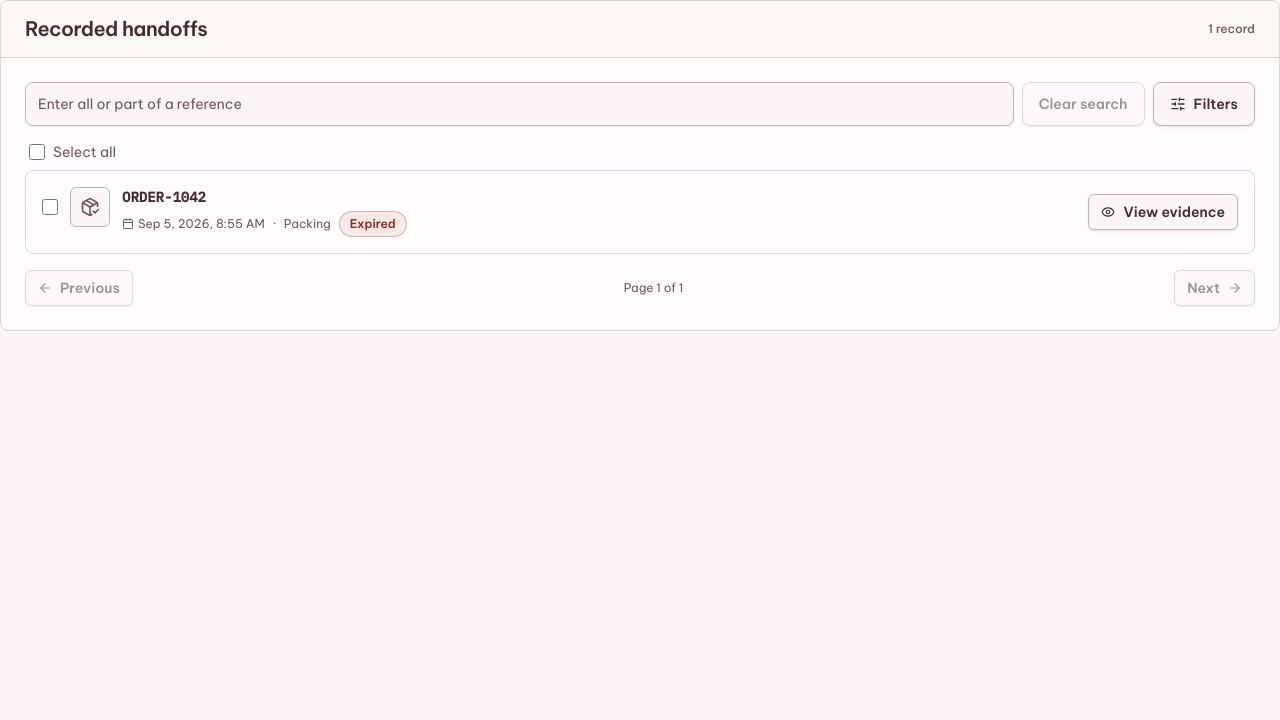
it: RecorderHistory › keeps expired record metadata visible without exposing evidence controls
Check: the text "ORDER-1042" is shown, box [122, 188, 206, 206]
Check: the text "Expired" is shown, box [339, 211, 407, 237]
Click the button "View evidence": {"x": 1163, "y": 212} [1088, 194, 1238, 230]
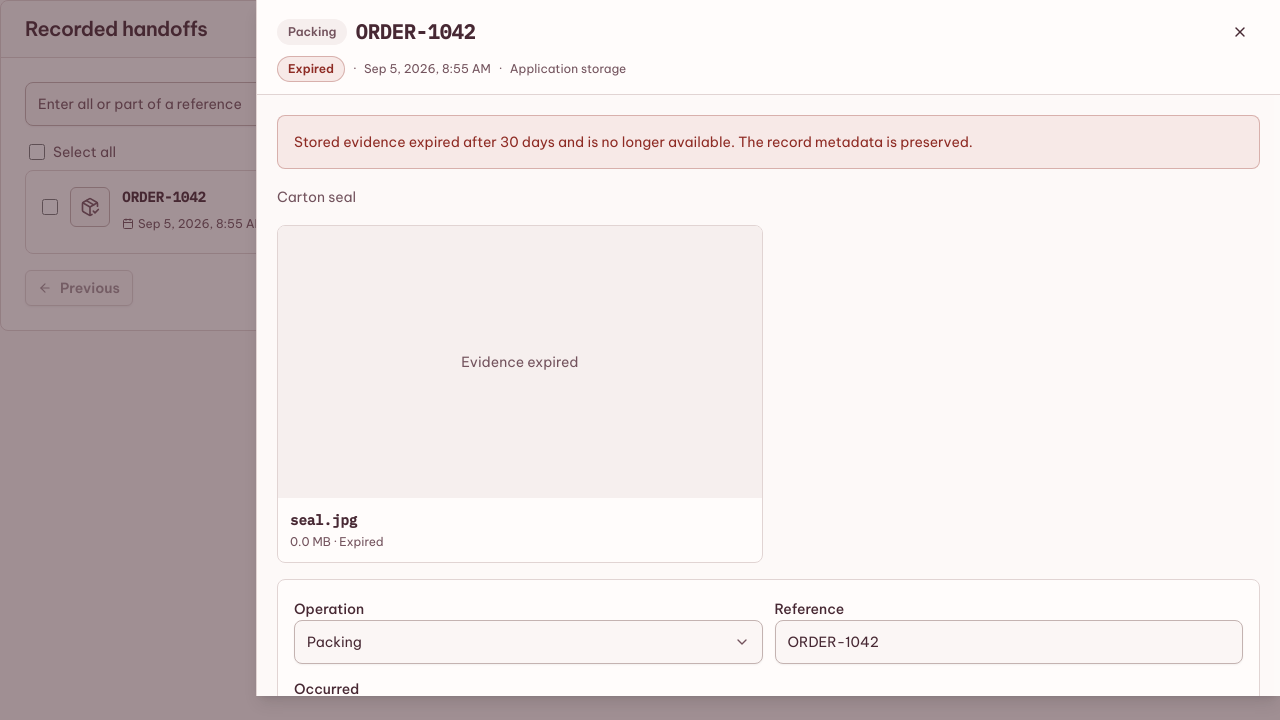
Check: the text "Stored evidence expired after 30 days and is no longer available. The record metadata is preserved." is shown, box [294, 133, 973, 151]
Check: the text "Evidence expired" is shown, box [278, 226, 762, 498]
